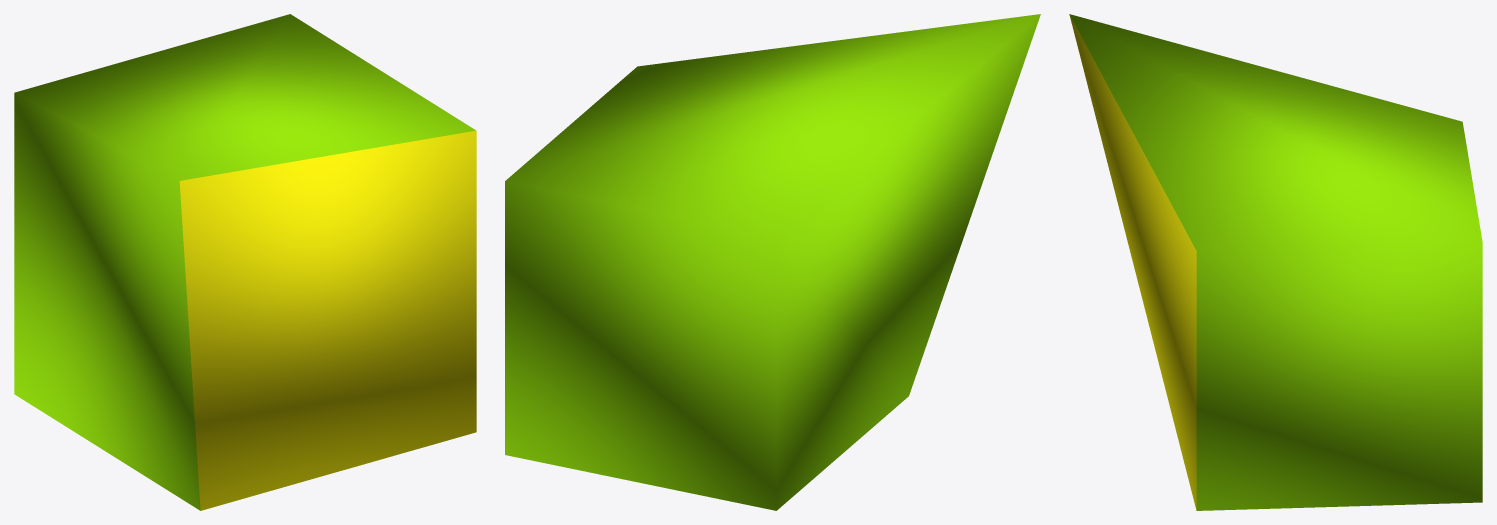
The picture shows the model from 3 angles, left to right: view 1: azimuth 30°, elevation 25°; view 2: azimuth 150°, elevation 25°; view 3: azimuth 270°, elevation 25°; orthographic projection. The views are drawn at different scales.
Visible parts, largest first — view 1: Cube; view 2: Cube; view 3: Cube.
Boxes of the visible parts, <box> form: Cube: <box>14,14,476,510</box>; Cube: <box>505,14,1040,510</box>; Cube: <box>1069,14,1482,510</box>.
Size of the model in its own units: 2.57 by 2.62 by 2.88.
